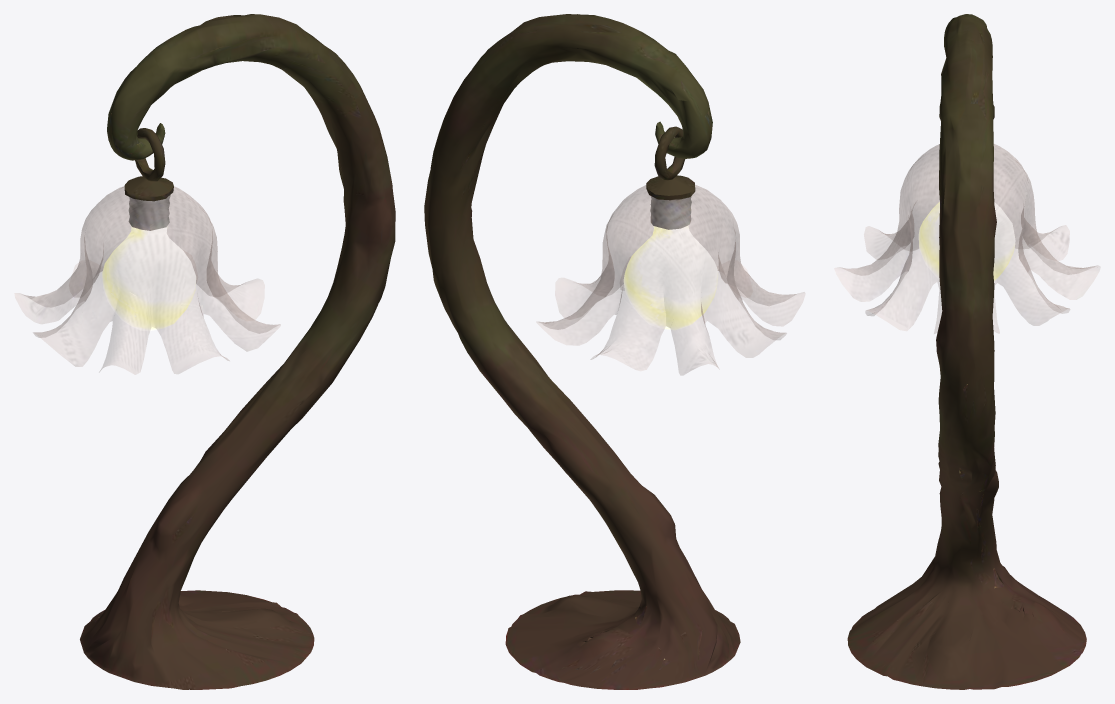
The model's file is desklamp.glb.
3 renders of one model, left to right at view 1: azimuth 30°, elevation 25°; view 2: azimuth 150°, elevation 25°; view 3: azimuth 270°, elevation 25°, orthographic.
Size of the model in its own units: 1.13 by 1.86 by 0.7216.
Materials: 3 (3 with a texture image).
